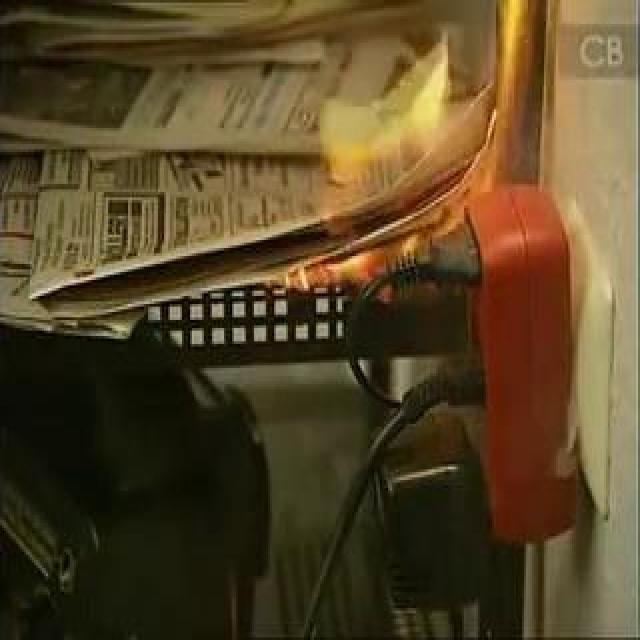Fire: (261, 0, 547, 301)
